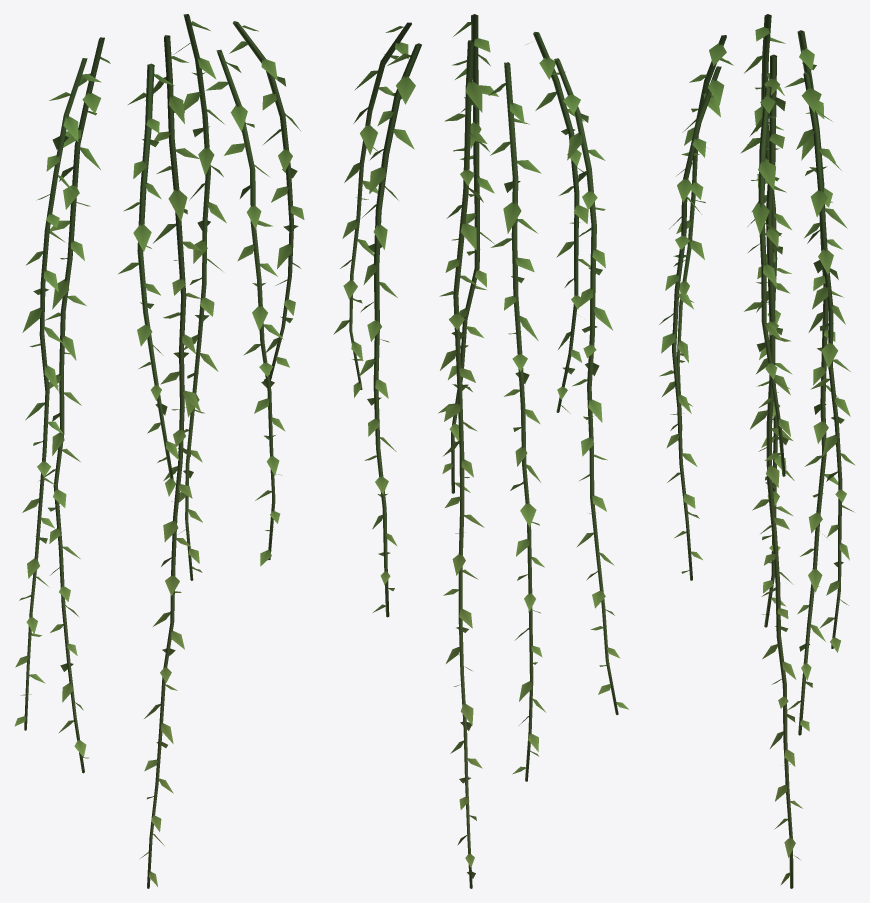
Rendered from hanging_vines.glb.
The picture shows the model from 3 angles, left to right: view 1: azimuth 30°, elevation 25°; view 2: azimuth 150°, elevation 25°; view 3: azimuth 270°, elevation 25°; orthographic projection. The views are drawn at different scales.
Parts seen in each view (by area): view 1: HangingVines; view 2: HangingVines; view 3: HangingVines.
Part boxes in pixels (x1,y1,x2,y2): HangingVines: (14, 14, 304, 888); HangingVines: (333, 14, 628, 888); HangingVines: (659, 14, 855, 888).
Bounding box in the file's own units: 1.2 × 3.37 × 0.7215.
